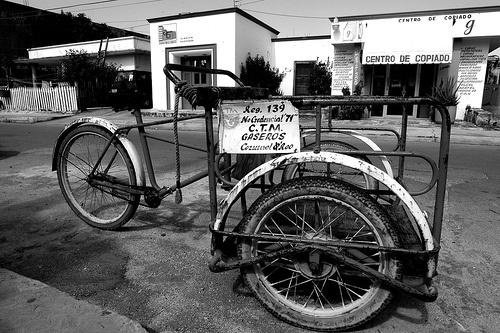bicycle: (45, 61, 447, 326)
pottedplant: (432, 74, 461, 124)
